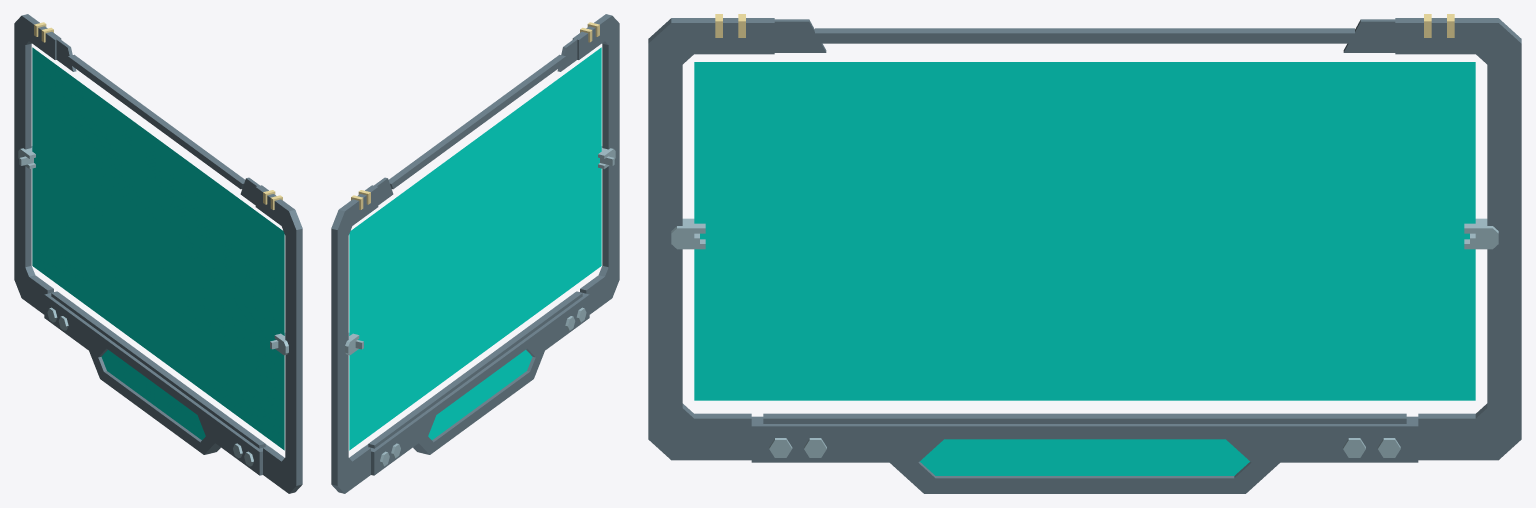
Rendered from wall mounted display.fbx.
The picture shows the model from 3 angles, left to right: view 1: azimuth 30°, elevation 25°; view 2: azimuth 150°, elevation 25°; view 3: azimuth 270°, elevation 25°; orthographic projection. The views are drawn at different scales.
Visible parts, largest first — view 1: wall mounted display-screen, wall mounted display; view 2: wall mounted display-screen, wall mounted display; view 3: wall mounted display-screen, wall mounted display.
Boxes of the visible parts, box(x1,y1,x2,y2) form: wall mounted display-screen: box(32, 47, 284, 450); wall mounted display: box(14, 14, 302, 493); wall mounted display-screen: box(349, 47, 601, 450); wall mounted display: box(331, 14, 619, 493); wall mounted display-screen: box(694, 62, 1475, 400); wall mounted display: box(648, 14, 1521, 493).
Size of the model in its own units: 3 by 33.95 by 57.
